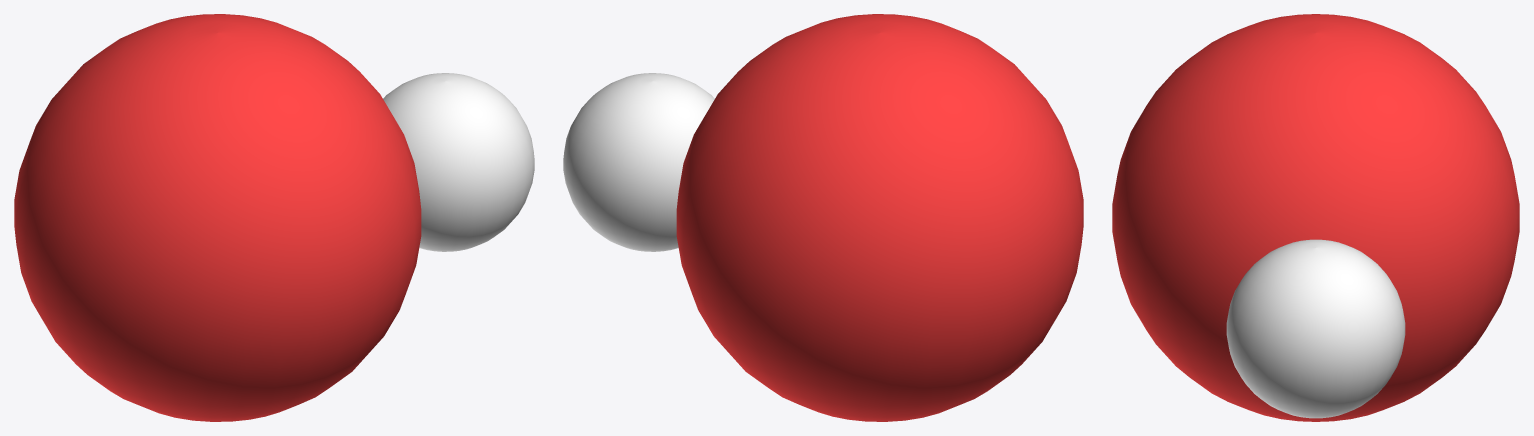
The picture shows the model from 3 angles, left to right: view 1: azimuth 30°, elevation 25°; view 2: azimuth 150°, elevation 25°; view 3: azimuth 270°, elevation 25°; orthographic projection.
Parts seen in each view (by area): view 1: Oxygen_ball, Hydrogen_ball; view 2: Oxygen_ball, Hydrogen_ball; view 3: Oxygen_ball, Hydrogen_ball.
Part boxes in pixels (x1,y1,x2,y2): Oxygen_ball: (14,14,421,421); Hydrogen_ball: (383,73,534,251); Oxygen_ball: (676,14,1083,421); Hydrogen_ball: (563,73,714,251); Oxygen_ball: (1112,14,1519,421); Hydrogen_ball: (1226,239,1405,418).
Size of the model in its own units: 1.99 by 1.46 by 1.46.
